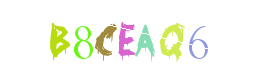6: (122, 0, 202, 80)
8: (42, 0, 122, 80)
A: (88, 0, 168, 80)
B: (18, 0, 98, 80)
C: (64, 0, 144, 80)
E: (85, 0, 165, 80)
Q: (107, 0, 187, 80)
